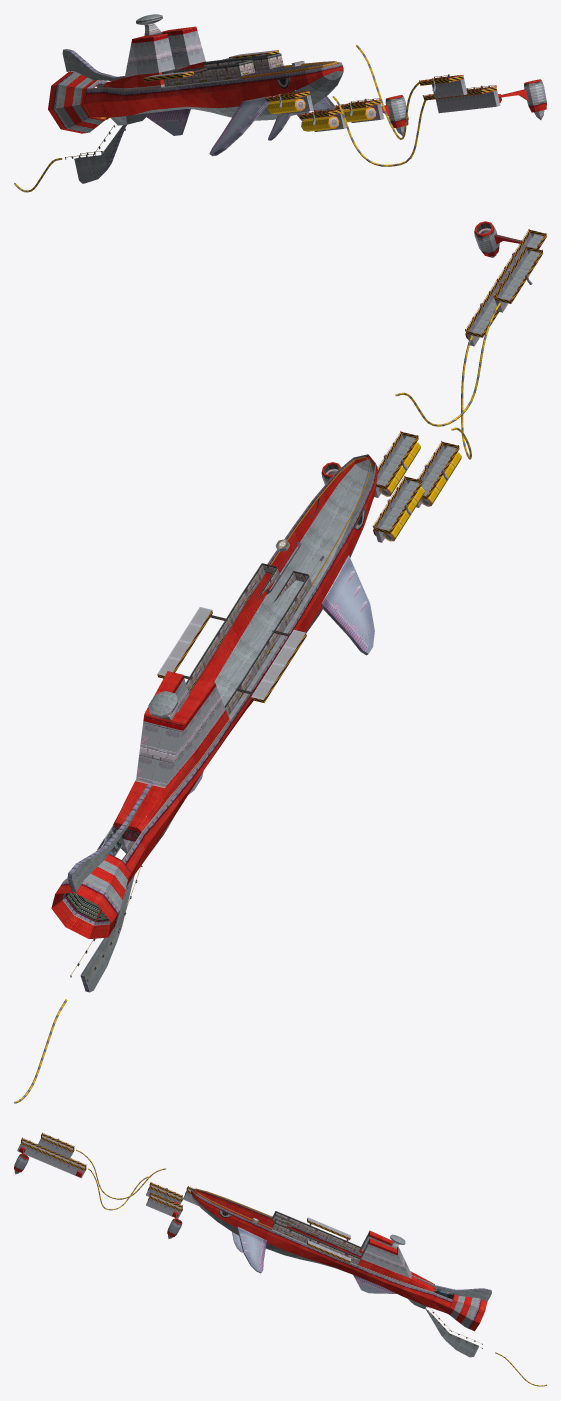
The picture shows the model from 3 angles, top to bottom: view 1: azimuth 30°, elevation 25°; view 2: azimuth 150°, elevation 25°; view 3: azimuth 270°, elevation 25°; orthographic projection. The views are drawn at different scales.
Parts seen in each view (by area): view 1: s13_on_14_8, s13_on_14_6, s13_on_14_13, s13_on_14_17, s13_on_14_4, s13_on_14_16, s13_on_14_19, s13_on_14_0, s13_on_14_3, s13_on_14_9, s13_on_14_1, s13_on_14_10 (+1 smaller); view 2: s13_on_14_8, s13_on_14_13, s13_on_14_6, s13_on_14_16, s13_on_14_4, s13_on_14_17, s13_on_14_20, s13_on_14_0, s13_on_14_3, s13_on_14_5, s13_on_14_19; view 3: s13_on_14_8, s13_on_14_6, s13_on_14_13, s13_on_14_4, s13_on_14_16, s13_on_14_17, s13_on_14_19, s13_on_14_0, s13_on_14_1.
Boxes of the visible parts, x1,y1,x2,y2 form: s13_on_14_8: (48, 26, 546, 183); s13_on_14_6: (115, 31, 544, 135); s13_on_14_13: (62, 14, 435, 183); s13_on_14_17: (142, 96, 335, 156); s13_on_14_4: (66, 50, 496, 157); s13_on_14_16: (162, 53, 284, 86); s13_on_14_19: (55, 72, 105, 132); s13_on_14_0: (14, 45, 426, 192); s13_on_14_3: (267, 98, 371, 131); s13_on_14_9: (385, 81, 546, 121); s13_on_14_1: (144, 23, 376, 128); s13_on_14_10: (131, 26, 501, 102); s13_on_14_8: (51, 221, 520, 992); s13_on_14_13: (71, 234, 543, 992); s13_on_14_6: (119, 233, 534, 853); s13_on_14_16: (186, 563, 311, 716); s13_on_14_4: (71, 230, 546, 978); s13_on_14_17: (188, 541, 374, 794); s13_on_14_20: (157, 607, 305, 699); s13_on_14_0: (14, 302, 500, 1103); s13_on_14_3: (387, 442, 461, 540); s13_on_14_5: (66, 222, 546, 920); s13_on_14_19: (64, 859, 128, 909); s13_on_14_8: (14, 1149, 491, 1331); s13_on_14_6: (14, 1139, 421, 1304); s13_on_14_13: (22, 1135, 491, 1357); s13_on_14_4: (21, 1133, 481, 1347); s13_on_14_16: (272, 1211, 361, 1264); s13_on_14_17: (232, 1214, 396, 1293); s13_on_14_19: (449, 1295, 478, 1327); s13_on_14_0: (76, 1149, 546, 1386); s13_on_14_1: (149, 1187, 405, 1246).
Bounding box in the file's own units: 682 × 2312 × 4507.
Materials: 23 (23 with a texture image).
